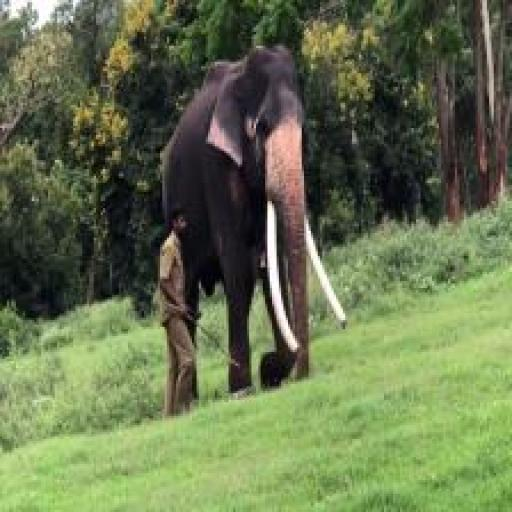Elephant: (190, 41, 354, 401)
